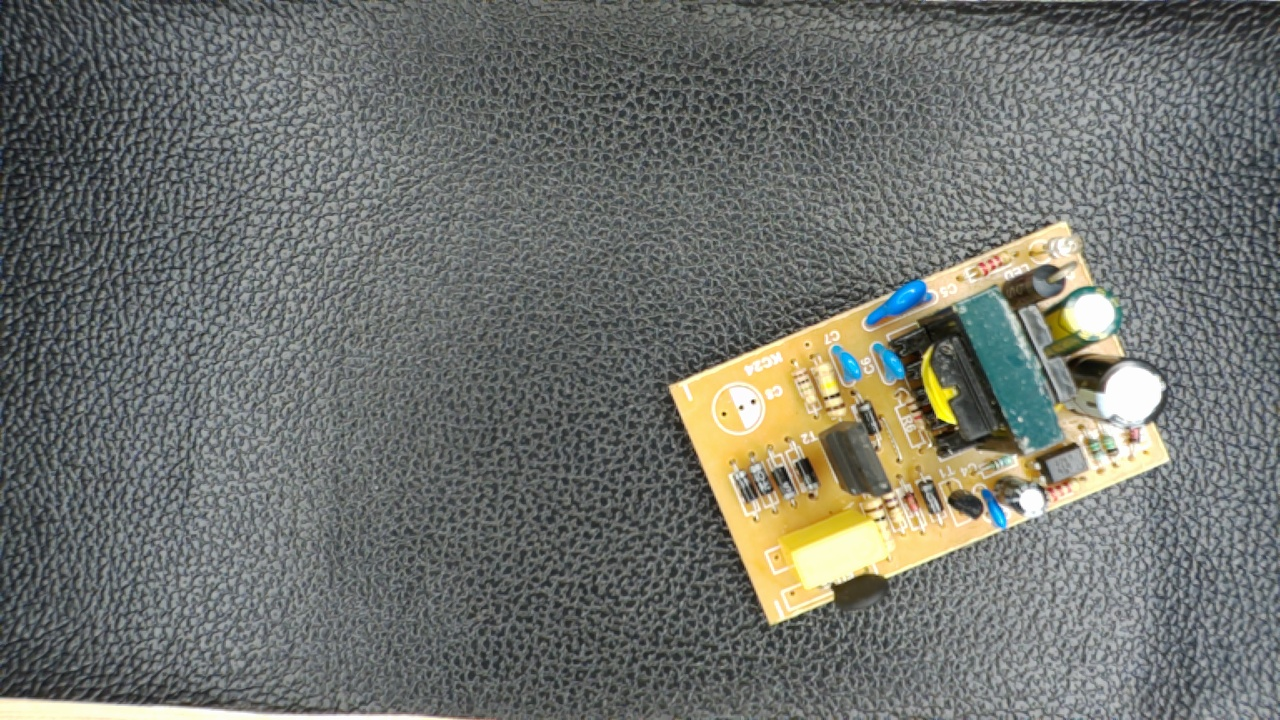fuse: (824, 563, 897, 614)
mov: (858, 278, 936, 330)
optocoupler: (1032, 441, 1094, 489)
